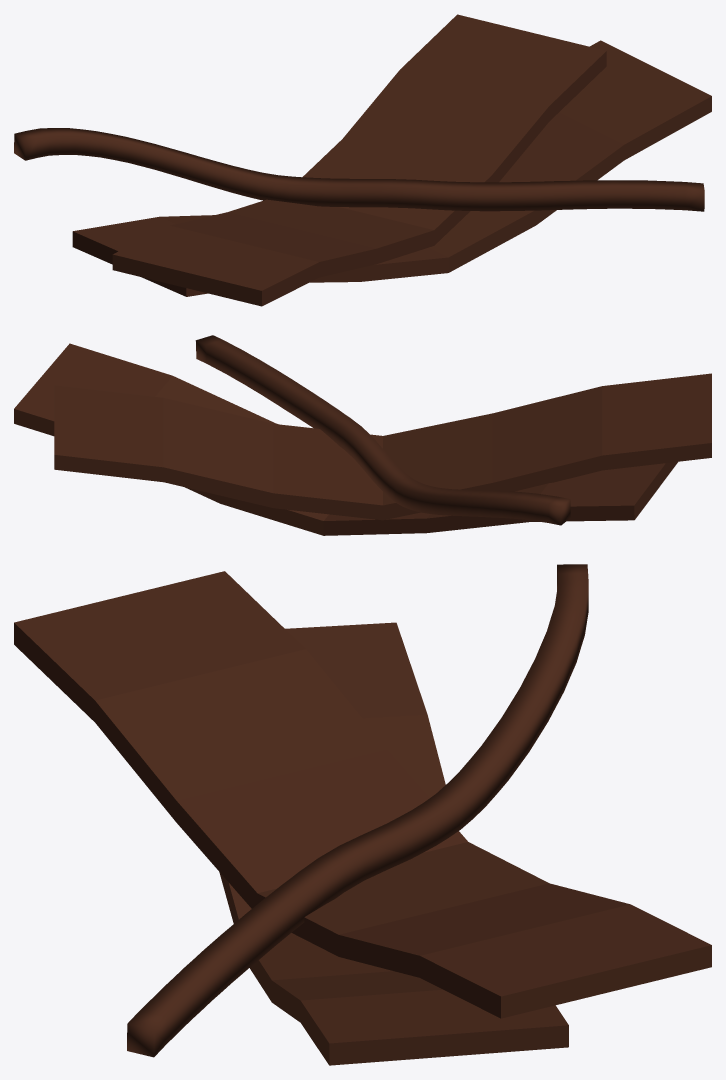
Rendered from Scrap2.glb.
The picture shows the model from 3 angles, top to bottom: view 1: azimuth 30°, elevation 25°; view 2: azimuth 150°, elevation 25°; view 3: azimuth 270°, elevation 25°; orthographic projection. The views are drawn at different scales.
Visible parts, largest first — view 1: Scrap 2_001; view 2: Scrap 2_001; view 3: Scrap 2_001.
Boxes of the visible parts, <box> form: Scrap 2_001: <box>14,14,711,306</box>; Scrap 2_001: <box>14,335,711,535</box>; Scrap 2_001: <box>14,564,711,1065</box>.
Size of the model in its own units: 0.8524 by 0.1629 by 0.5732.
